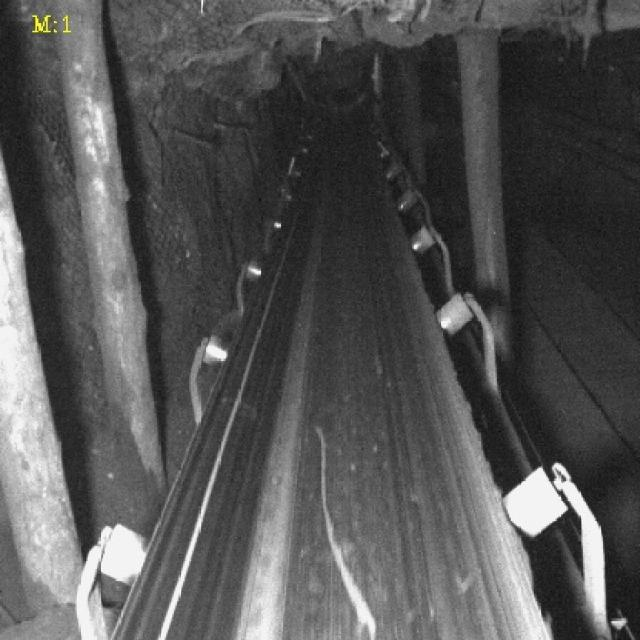bolt: (315, 427, 379, 640)
